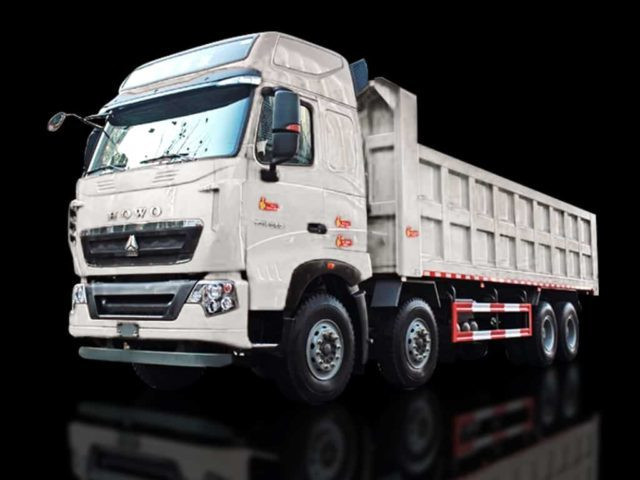truck: (46, 30, 601, 402)
